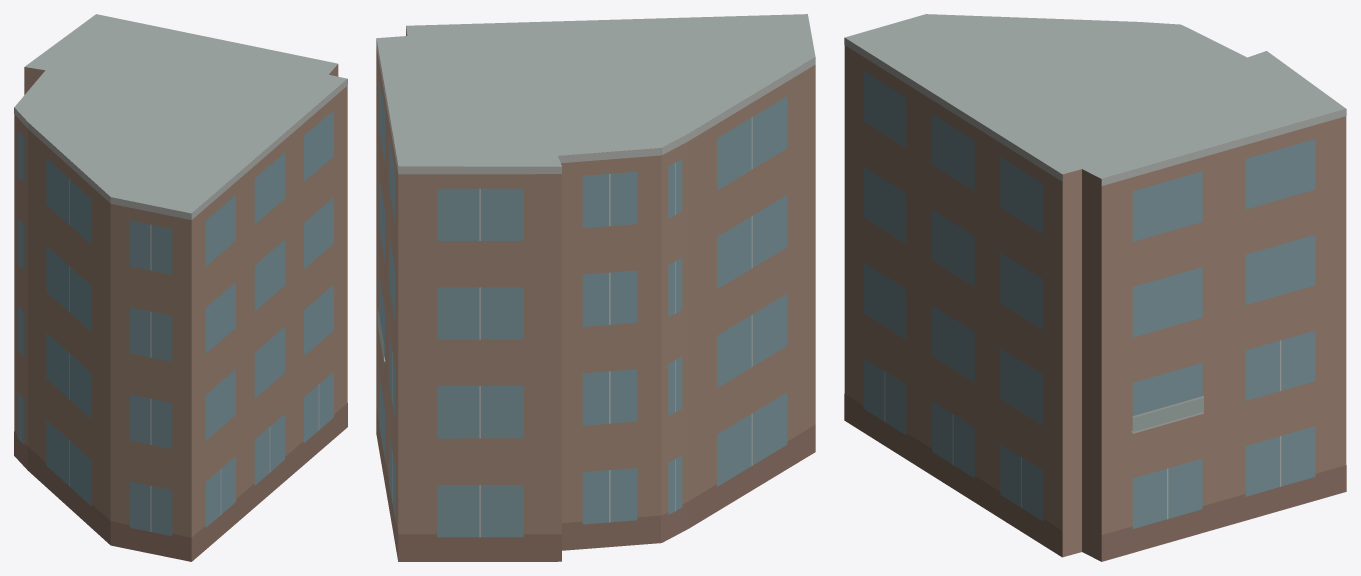
File: survey-upis-32651694.glb
3 renders of one model, left to right at view 1: azimuth 30°, elevation 25°; view 2: azimuth 150°, elevation 25°; view 3: azimuth 270°, elevation 25°, orthographic. The views are drawn at different scales.
Visible parts, largest first — view 1: survey-upis-32651694.tmp; view 2: survey-upis-32651694.tmp; view 3: survey-upis-32651694.tmp.
Part boxes in pixels (x1,y1,x2,y2): survey-upis-32651694.tmp: (14,14,347,561); survey-upis-32651694.tmp: (376,14,815,561); survey-upis-32651694.tmp: (844,14,1346,561).
Size of the model in its own units: 11.83 by 12.8 by 15.21.
